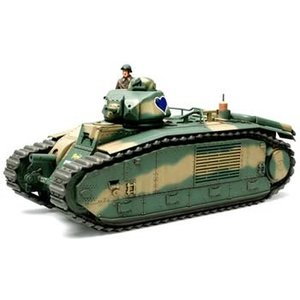Battle Tank: (4, 87, 297, 234)
